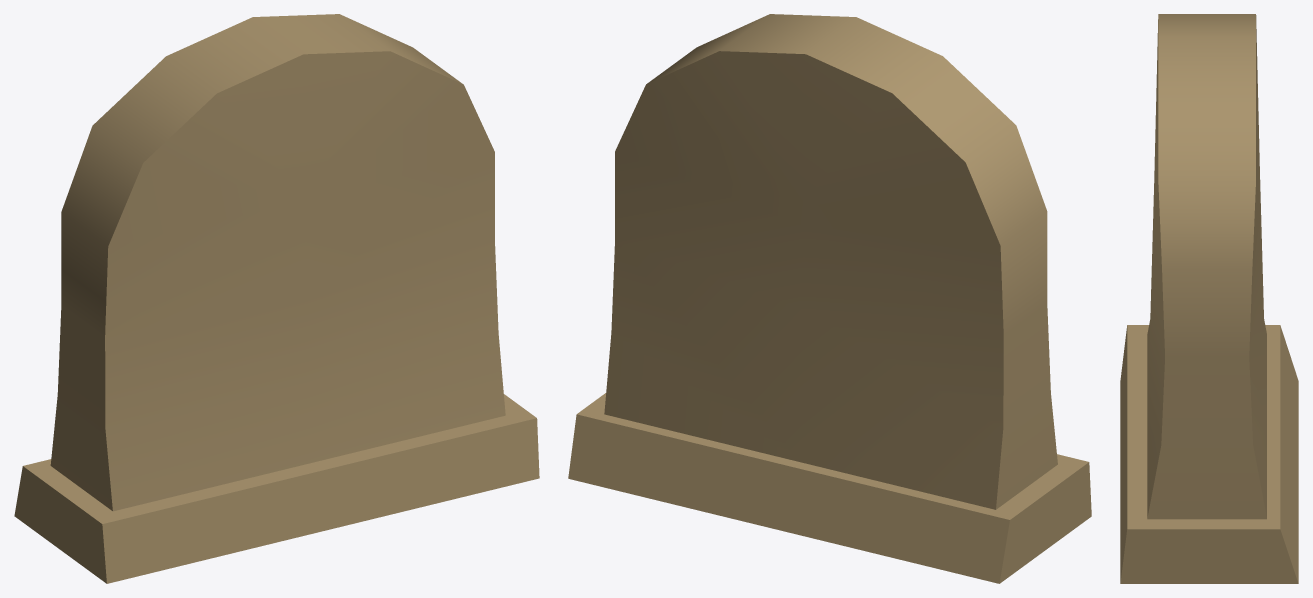
The model's file is NadgroybProst.fbx.
The picture shows the model from 3 angles, left to right: view 1: azimuth 30°, elevation 25°; view 2: azimuth 150°, elevation 25°; view 3: azimuth 270°, elevation 25°; orthographic projection. The views are drawn at different scales.
Visible parts, largest first — view 1: Cylinder; view 2: Cylinder; view 3: Cylinder.
Boxes of the visible parts, x1,y1,x2,y2 form: Cylinder: [14, 14, 539, 583]; Cylinder: [568, 14, 1091, 583]; Cylinder: [1120, 14, 1298, 583].
Size of the model in its own units: 192 by 195 by 70.71.
